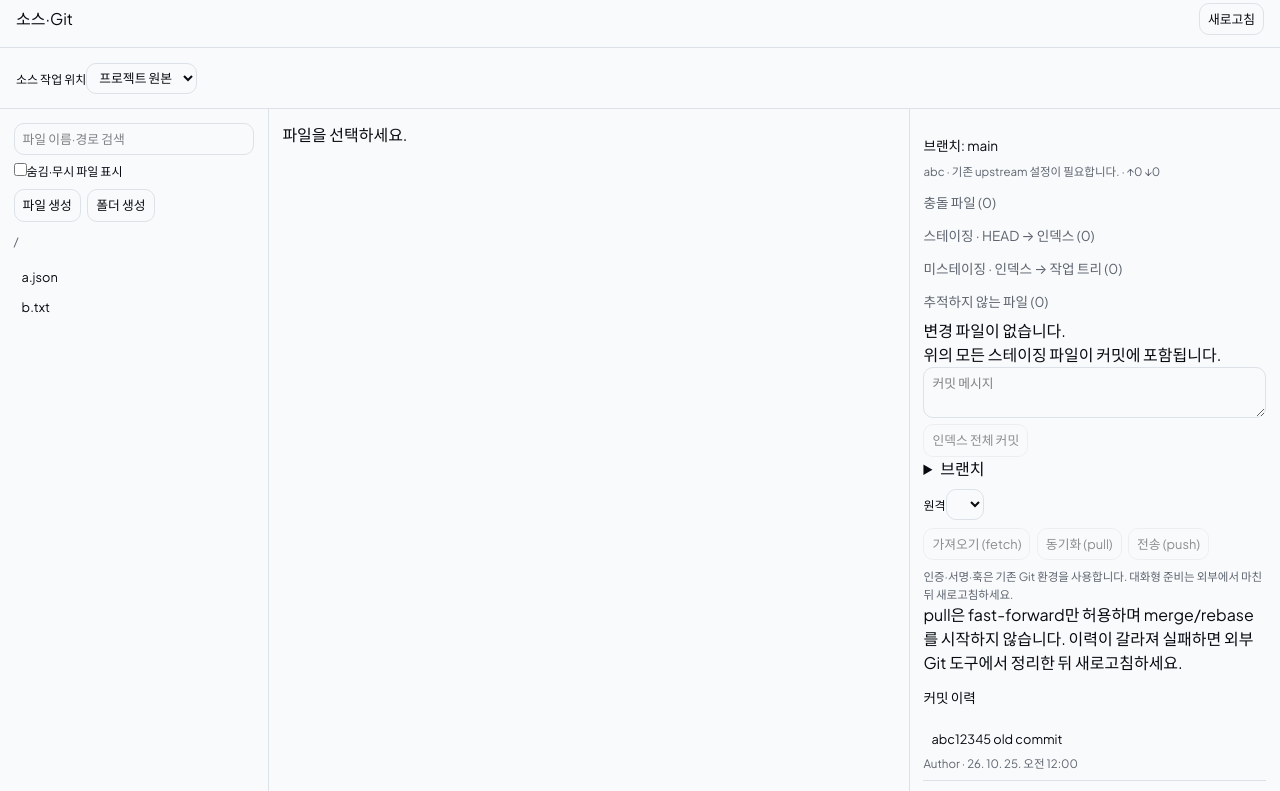
Test: opens historical commit content read only without reading the working file
Click the button "abc12345 old commit": (961, 739) [923,724,1266,754]
(page scrolled)
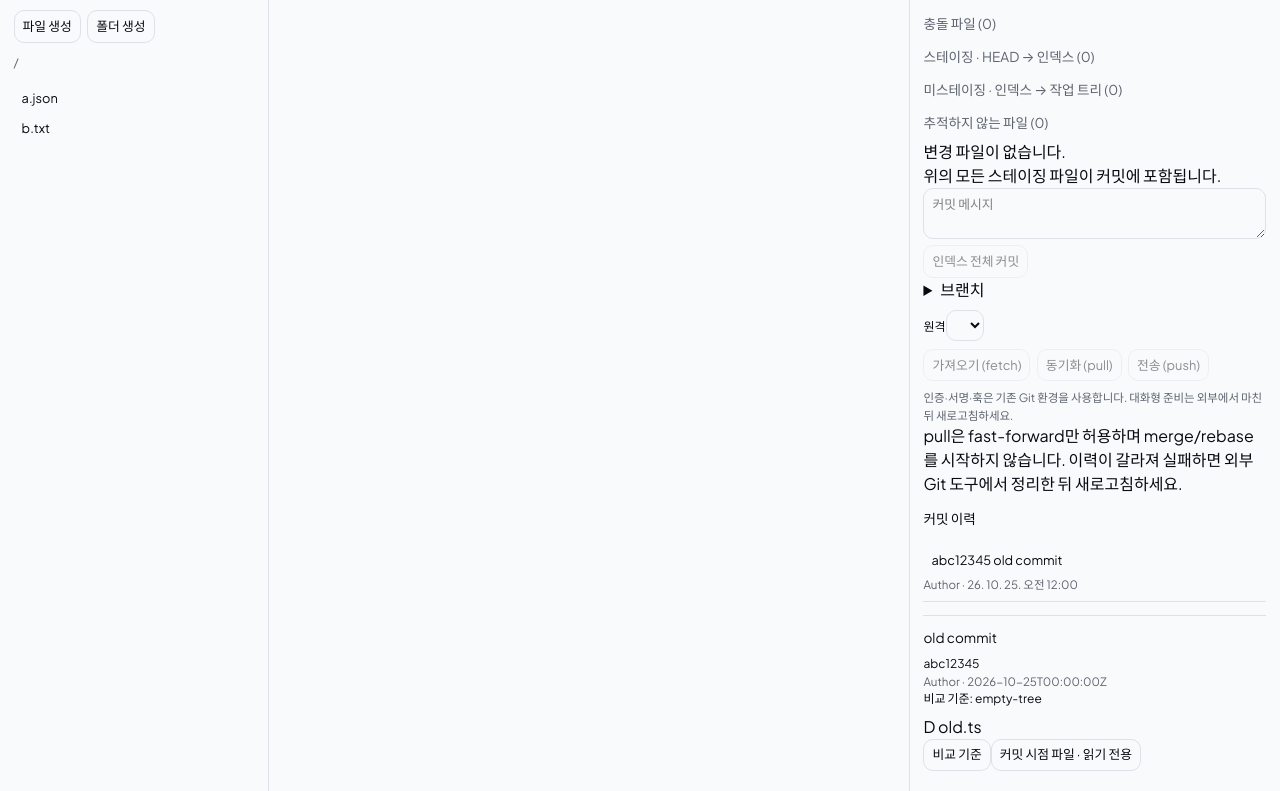
Click the button "커밋 시점 파일 · 읽기 전용": (1066, 755) [991,739,1141,771]
(page scrolled)
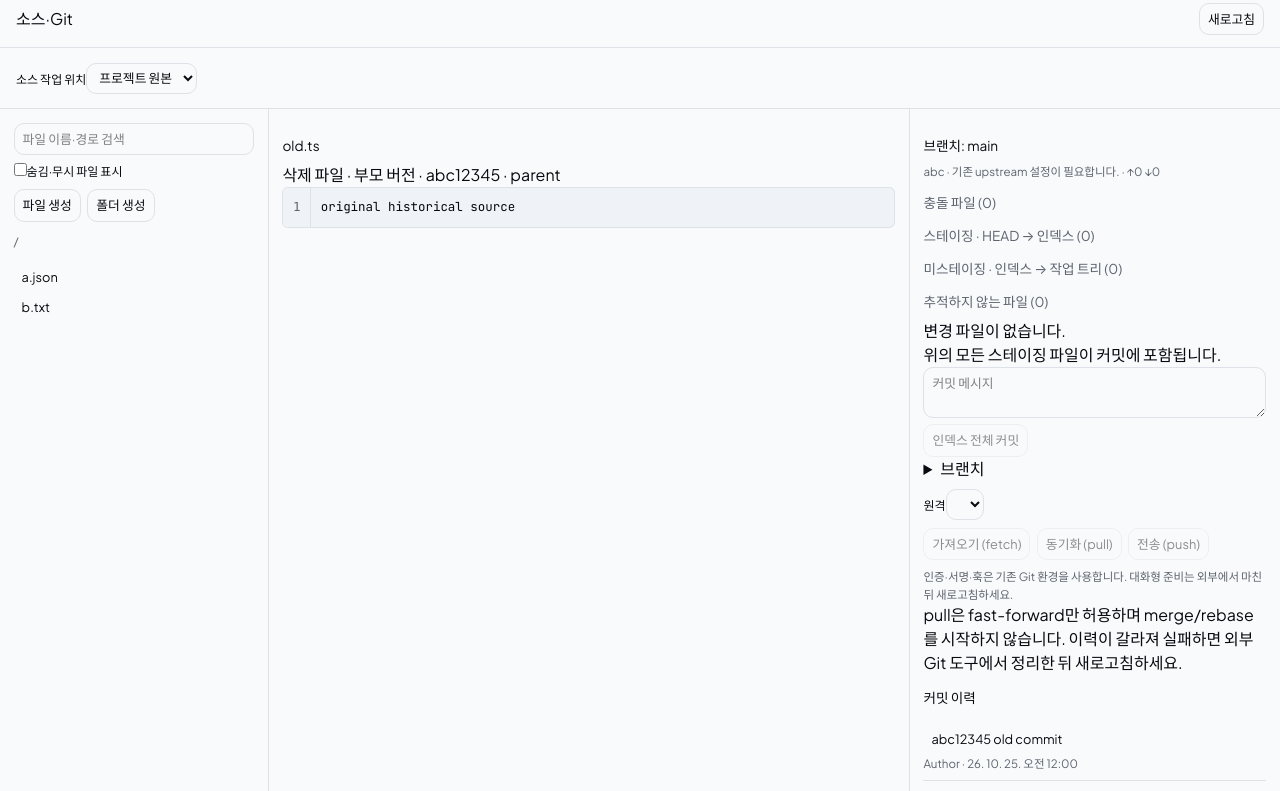
Result: the text "original historical source" is shown at [321,198,515,215]
Result: the text "삭제 파일 · 부모 버전 · abc12345 · parent" is shown at [282,164,561,184]
